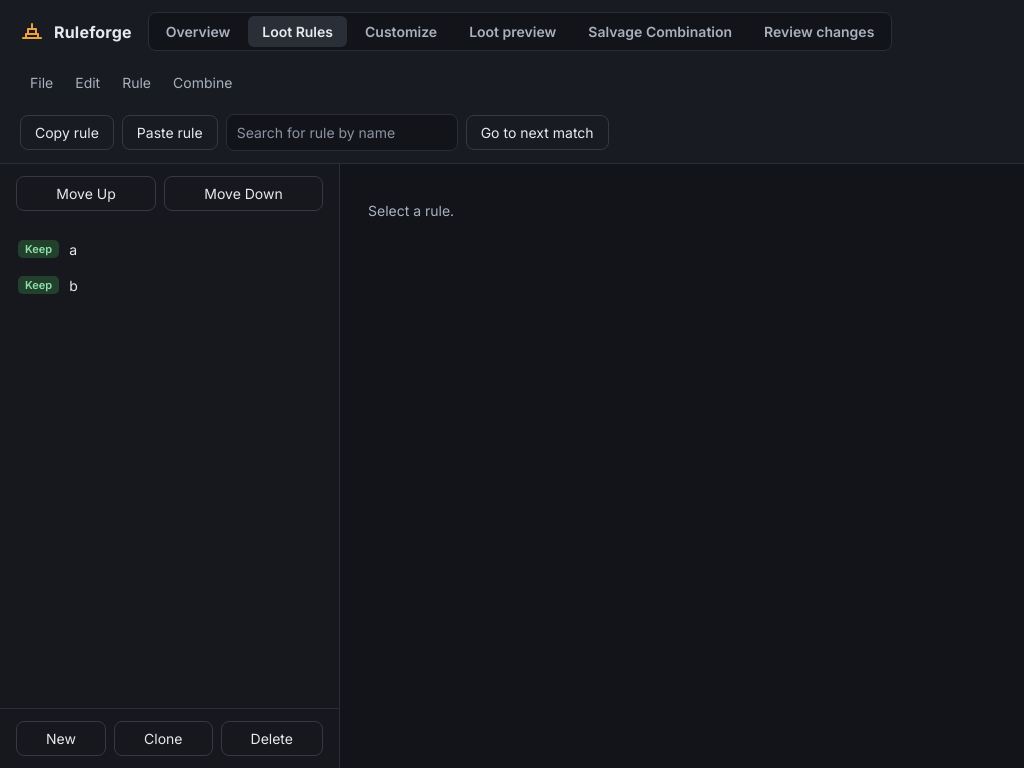
Scenario: the Review changes tab of the App › shows the changes against the base profile
The width and height of the screenshot is (1024, 768).
The action of the first rule changes.
Step 1. Click the button "Keep a" → (39, 249), box [8,231,331,267]
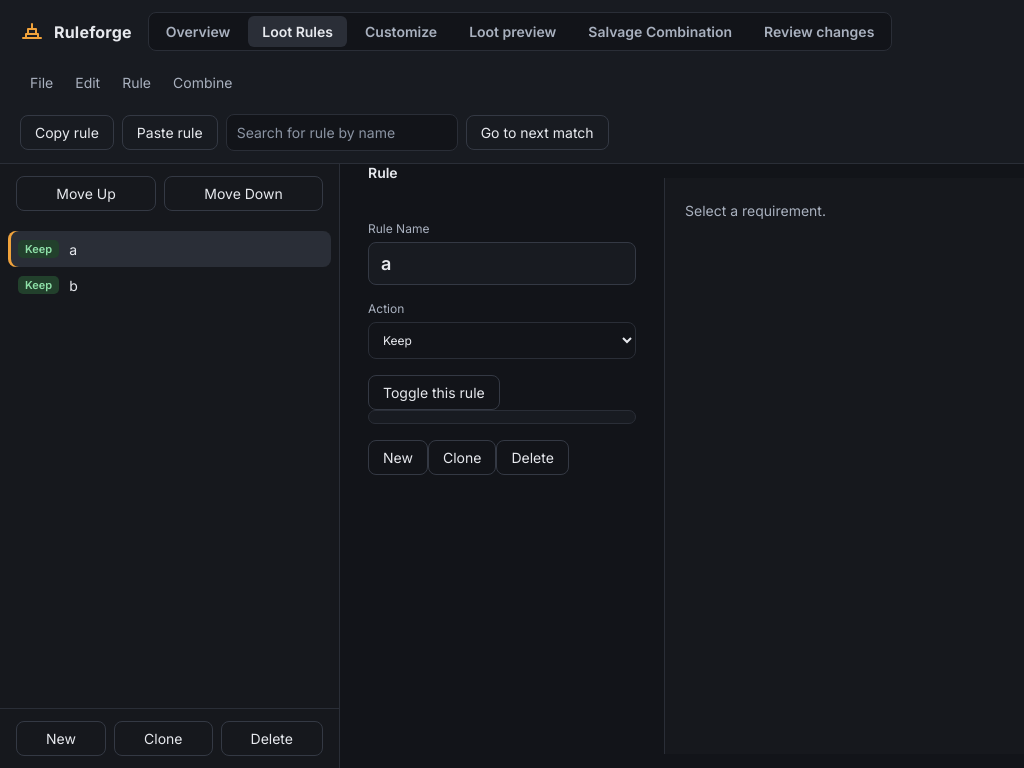
Step 2. Select "Sell" in the dropdown labelled "Action" → (502, 340), box [368,322,636,359]
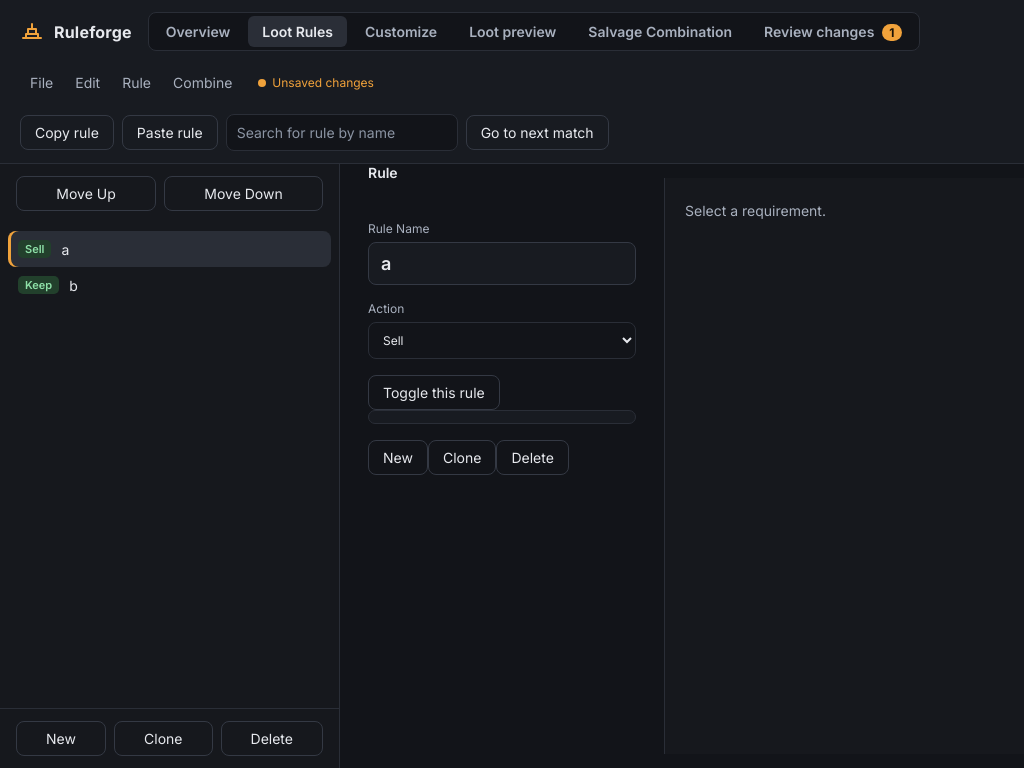
Step 3. Click the tab "Review changes1" → (833, 32), box [750,16,916,47]
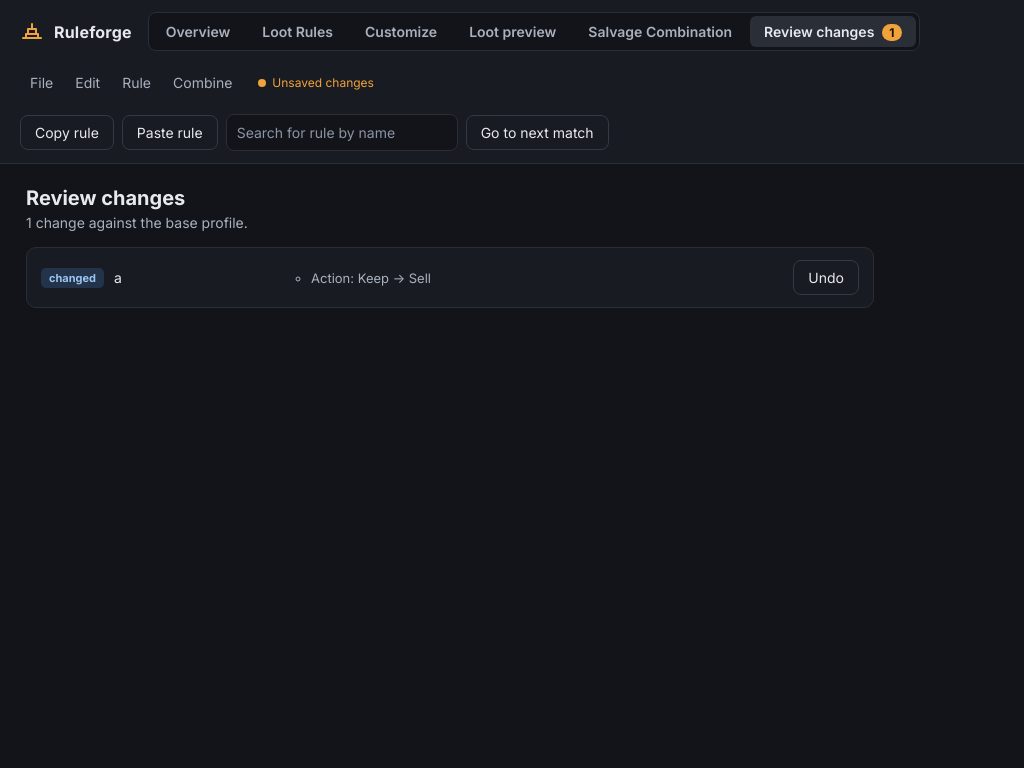
Expected: the tab "Review changes1" is shown, [750,16,916,47]
Expected: the list named "Changes" shows "Action: Keep -> Sell", [26,247,874,308]
The Undo takes the change back.
Step 4. Click the button "Undo" → (826, 278), box [793,260,859,295]
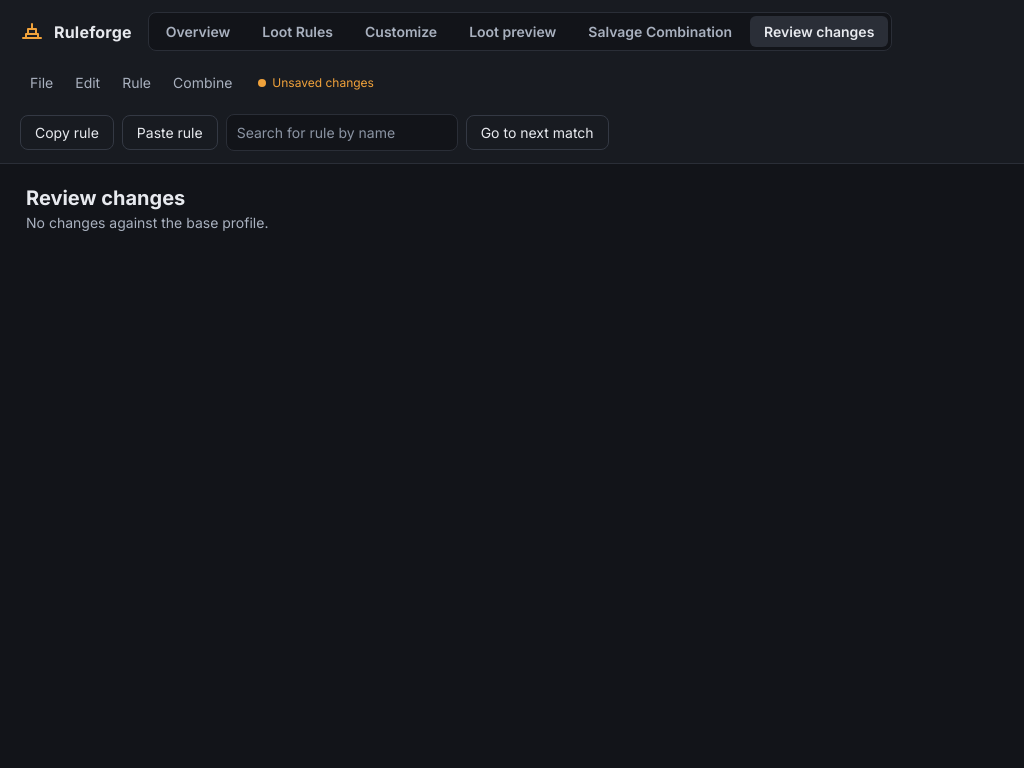
Expected: the text "No changes against the base profile." is shown, [26,214,268,231]
